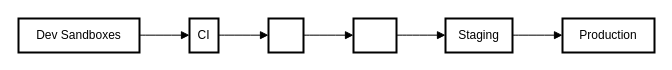
The diagram is 672 pixels wide and 70 high, and some of its shapes have lost their labels. Each missing label, with the box of its shape:
QA: (267, 17, 304, 53)
UAT: (352, 17, 397, 53)
